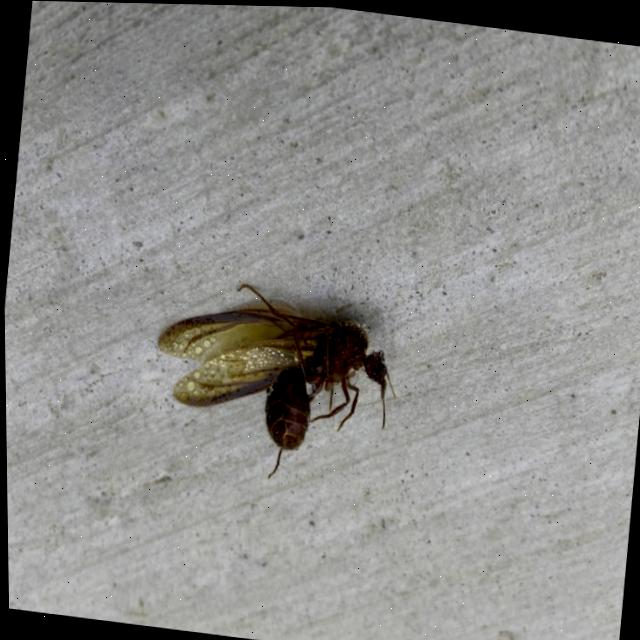Dead-Female-Alate: (143, 272, 405, 493)
